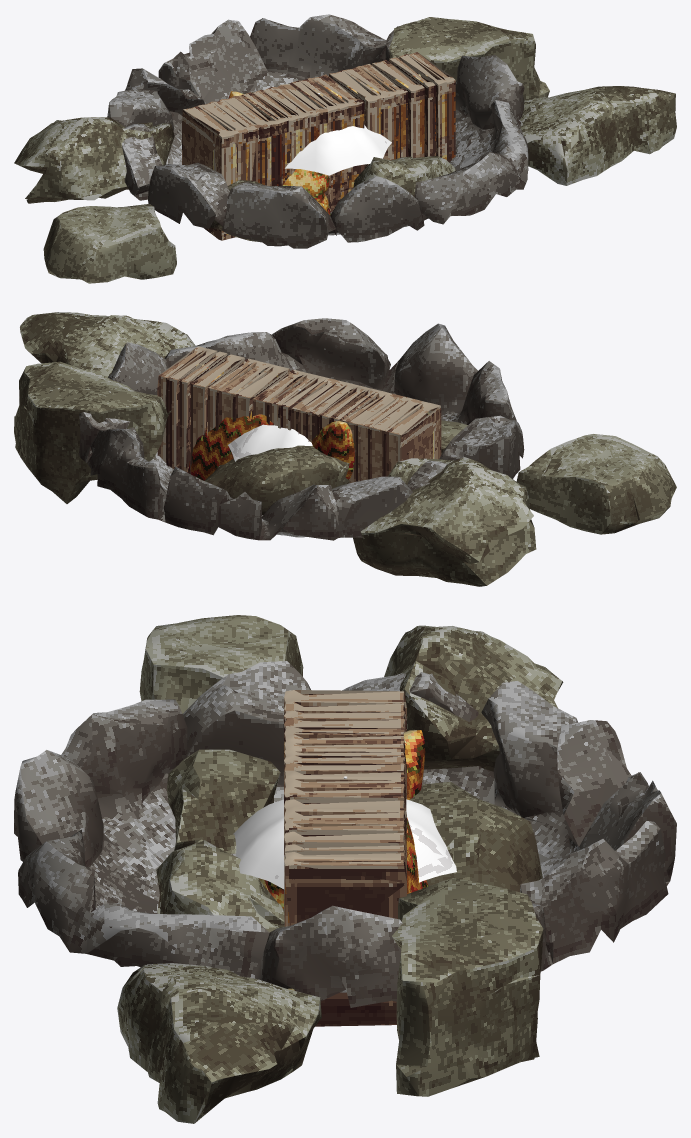
The model's file is cards_b.glb.
The picture shows the model from 3 angles, top to bottom: view 1: azimuth 30°, elevation 25°; view 2: azimuth 150°, elevation 25°; view 3: azimuth 270°, elevation 25°; orthographic projection. The views are drawn at different scales.
Parts seen in each view (by area): view 1: firepit, rocks, books, umbrella, pillows; view 2: rocks, firepit, books, pillows, umbrella; view 3: rocks, firepit, books, umbrella, pillows.
Boxes of the visible parts, bbox=[...] form: firepit: bbox=[107, 14, 528, 248]; rocks: bbox=[14, 17, 676, 283]; books: bbox=[182, 52, 455, 240]; umbrella: bbox=[285, 93, 391, 177]; pillows: bbox=[228, 74, 427, 215]; rocks: bbox=[14, 312, 676, 586]; firepit: bbox=[79, 318, 524, 540]; books: bbox=[157, 346, 441, 483]; pillows: bbox=[188, 364, 354, 480]; umbrella: bbox=[228, 389, 312, 461]; rocks: bbox=[117, 615, 563, 1123]; firepit: bbox=[14, 661, 676, 1007]; books: bbox=[284, 690, 406, 1026]; umbrella: bbox=[233, 776, 456, 889]; pillows: bbox=[259, 730, 428, 909].
Bounding box in the file's own units: 149 × 24.09 × 88.75.
11 materials, 11 textured.
